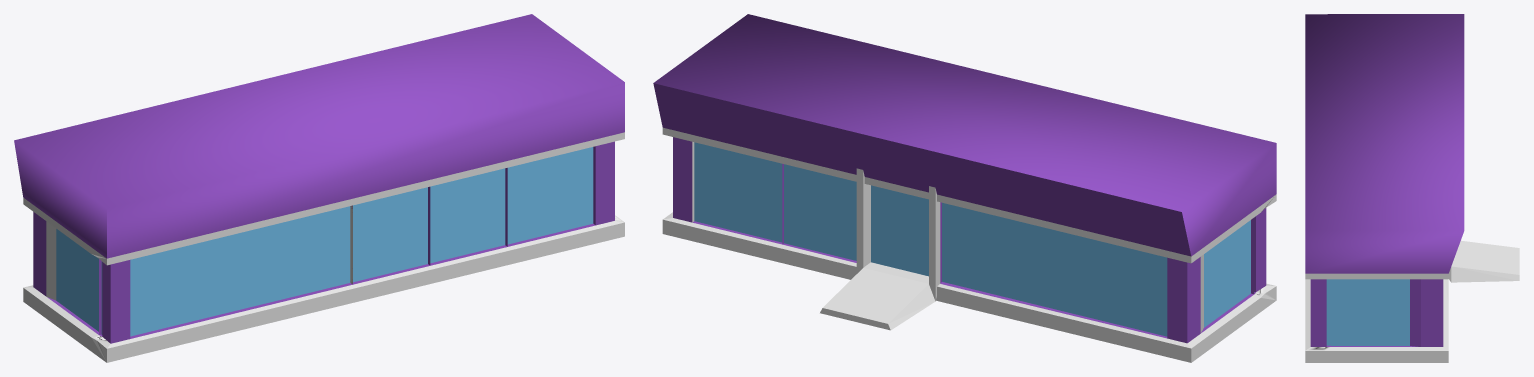
Rendered from Shop7x2x2Purple.fbx.
3 views of the same model, side by side, from view 1: azimuth 30°, elevation 25°; view 2: azimuth 150°, elevation 25°; view 3: azimuth 270°, elevation 25° (orthographic). The views are drawn at different scales.
Parts seen in each view (by area): view 1: Shop.001; view 2: Shop.001; view 3: Shop.001.
Part boxes in pixels (box(x1,y1,x2,y2)): Shop.001: box(14, 14, 624, 362); Shop.001: box(653, 14, 1276, 362); Shop.001: box(1305, 14, 1519, 362).
Bounding box in the file's own units: 6.95 × 1.98 × 2.91.
1 material, 1 textured.
